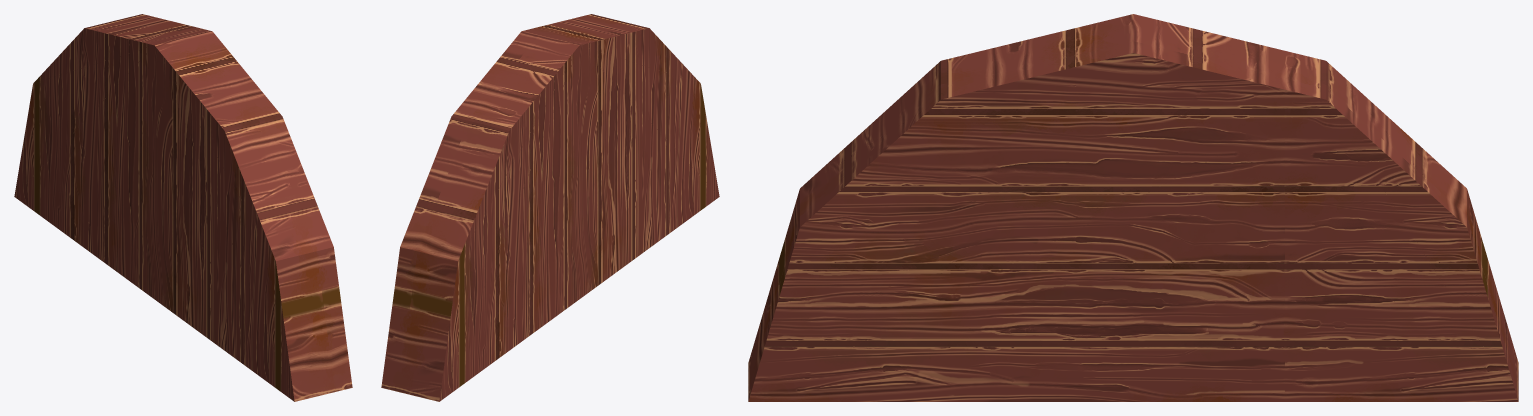
3 views of the same model, side by side, from view 1: azimuth 30°, elevation 25°; view 2: azimuth 150°, elevation 25°; view 3: azimuth 270°, elevation 25° (orthographic). The views are drawn at different scales.
Parts seen in each view (by area): view 1: Cylinder.018; view 2: Cylinder.018; view 3: Cylinder.018.
Boxes of the visible parts, <box> form: Cylinder.018: <box>14,14,352,401</box>; Cylinder.018: <box>381,14,719,401</box>; Cylinder.018: <box>748,14,1518,401</box>.
Size of the model in its own units: 63.39 by 265 by 530.
1 material, 1 textured.
